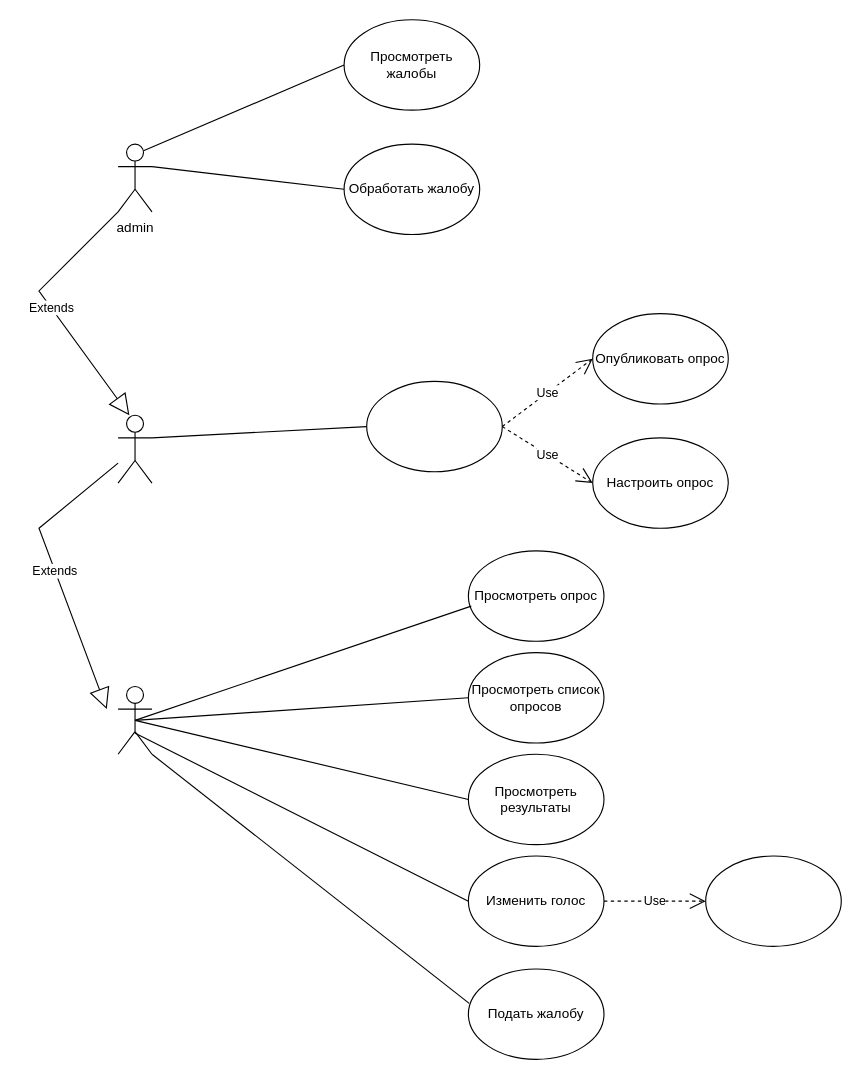
The diagram is 861 pixels wide and 1079 high, and some of its shapes have lost their labels. Here are the shapes that lost their labels. From the top down, the centre of each, then its label:
At pixel 434 426: "Создать опрос".
At pixel 134 448: "Creator".
At pixel 134 719: "User".
At pixel 773 900: "Проголосовать".
